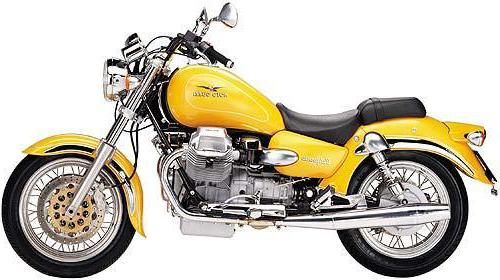motorcycle: (2, 19, 500, 280)
